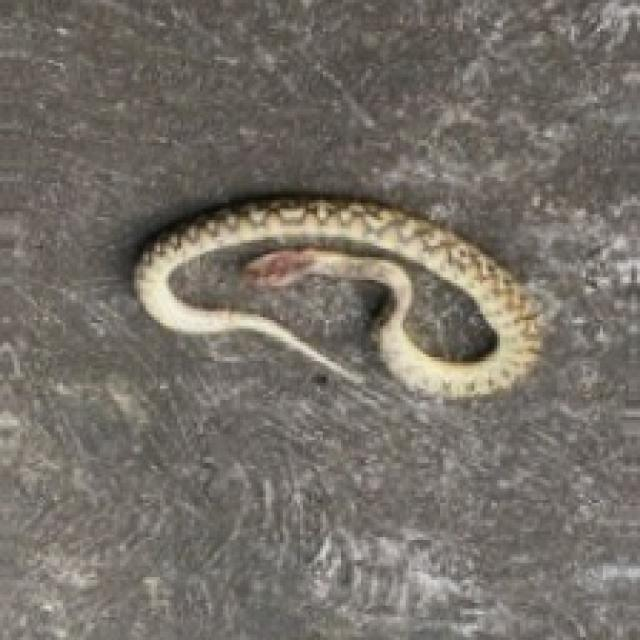reticulated python: (134, 197, 540, 394), (403, 263, 494, 360)
